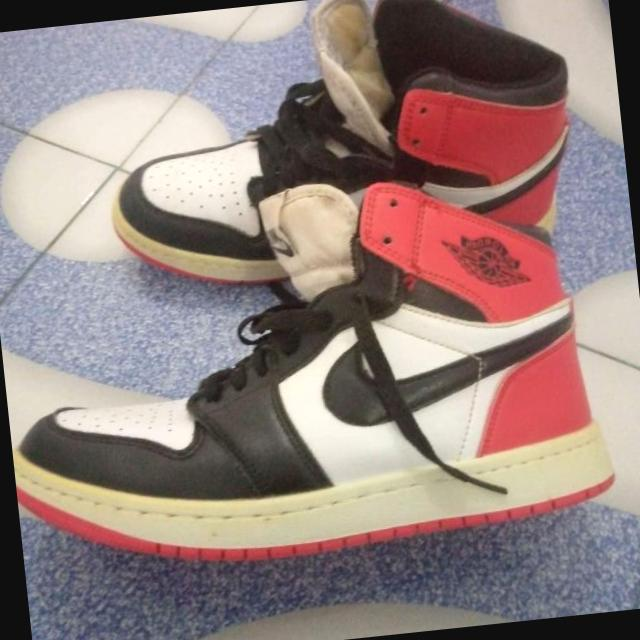nike_fake_jordan: (0, 159, 626, 586), (91, 0, 592, 297)
